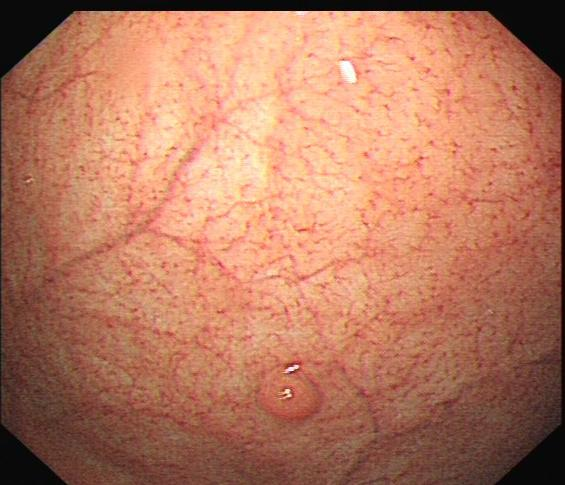Polyp: (254, 361, 326, 426)
